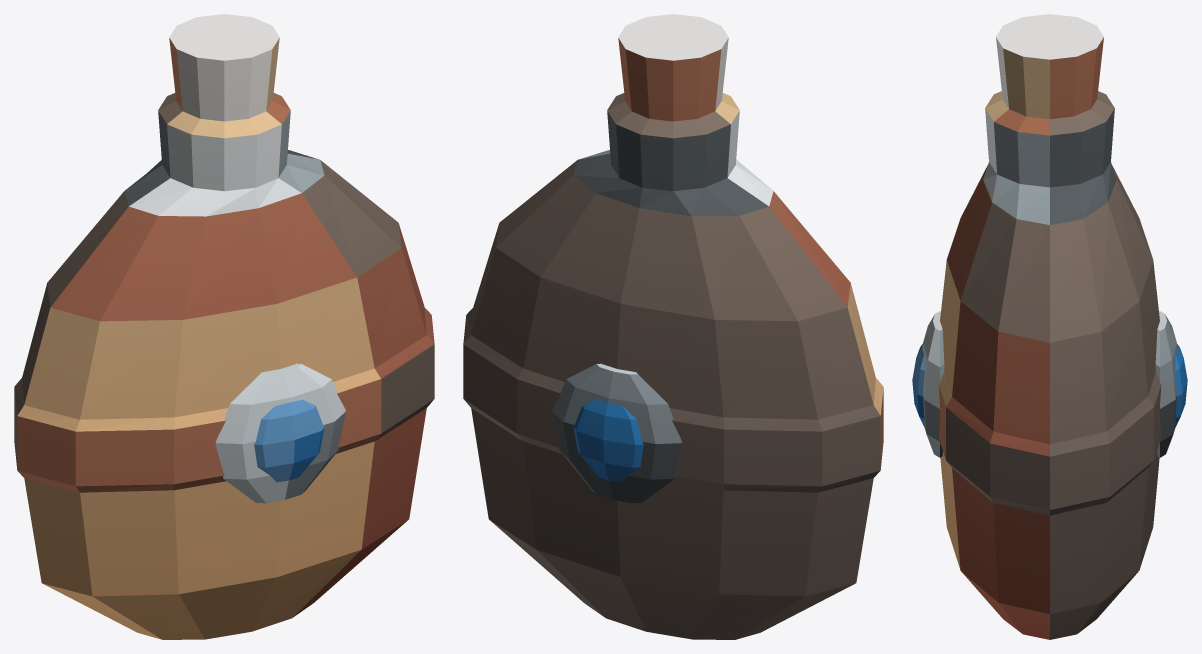
File: drink_water_canteen.glb
3 renders of one model, left to right at view 1: azimuth 30°, elevation 25°; view 2: azimuth 150°, elevation 25°; view 3: azimuth 270°, elevation 25°, orthographic. The views are drawn at different scales.
Parts seen in each view (by area): view 1: model; view 2: model; view 3: model.
Boxes of the visible parts, <box> form: model: <box>14,14,434,639</box>; model: <box>463,14,883,639</box>; model: <box>912,14,1187,639</box>.
Size of the model in its own units: 0.476 by 0.63 by 0.28.
Materials: 1 (1 with a texture image).
